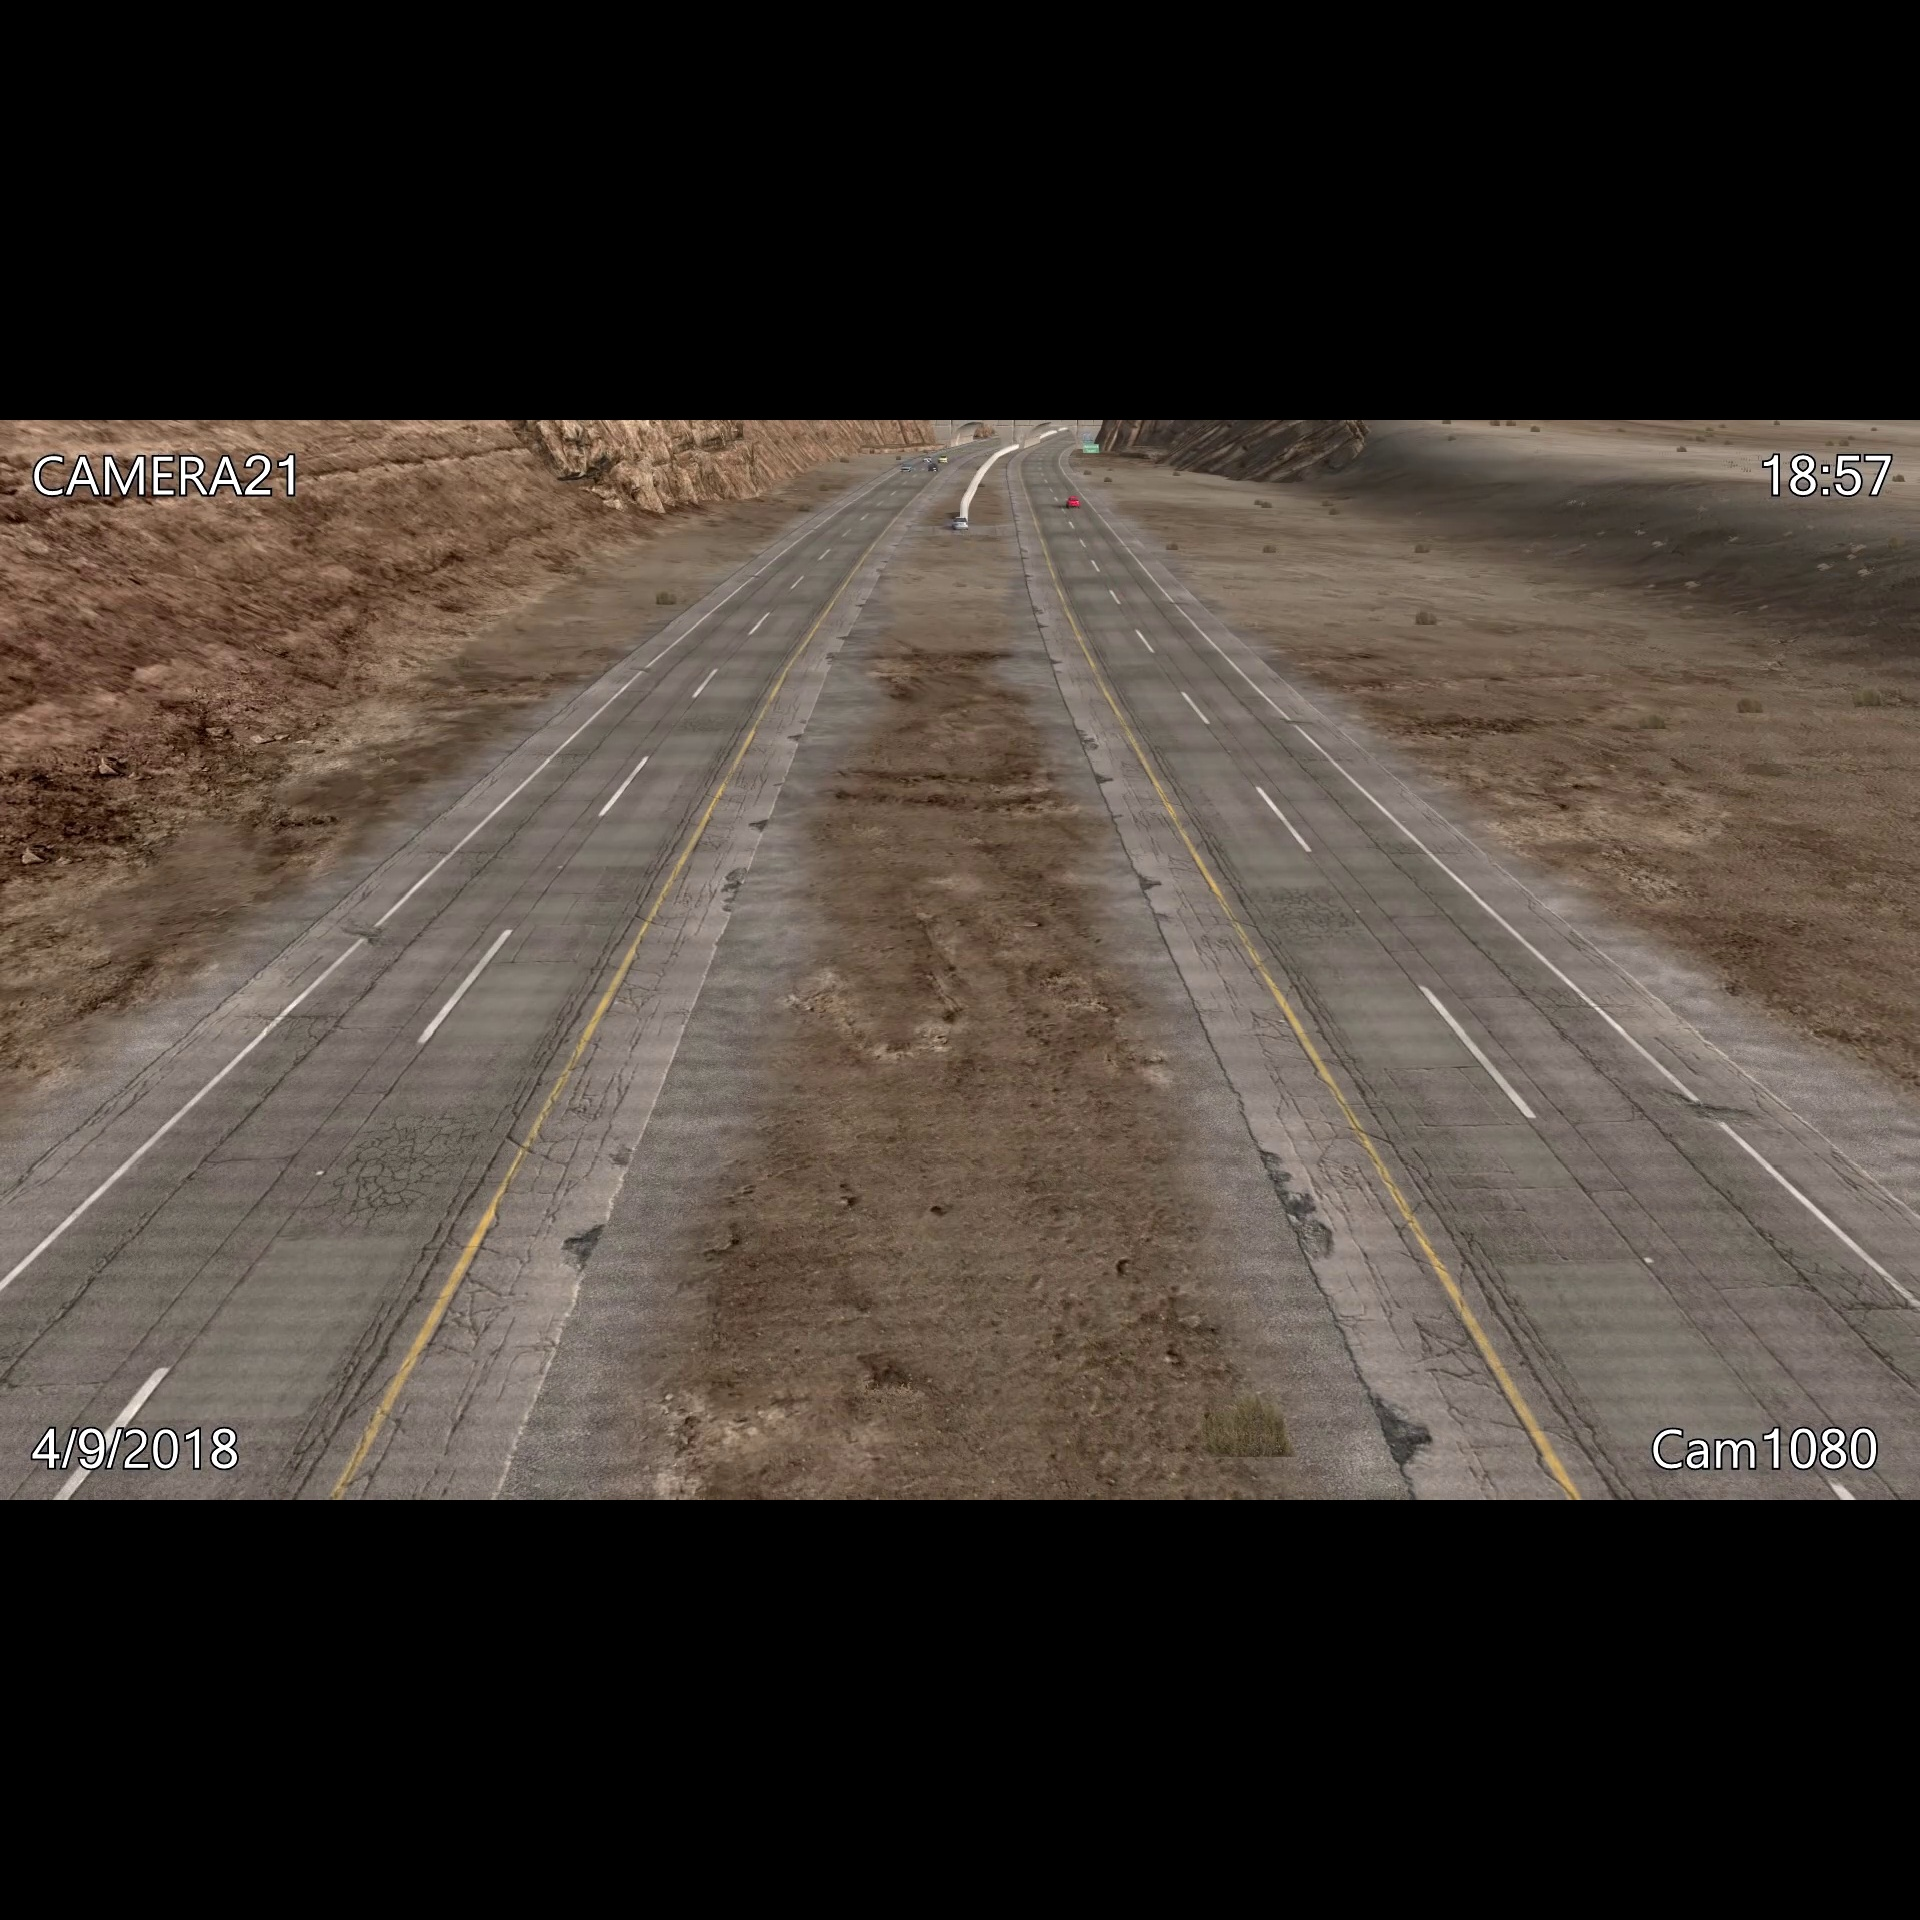vehicle: (1065, 496, 1081, 510), (900, 462, 913, 475), (927, 462, 941, 473), (921, 455, 932, 464), (937, 455, 949, 462)
